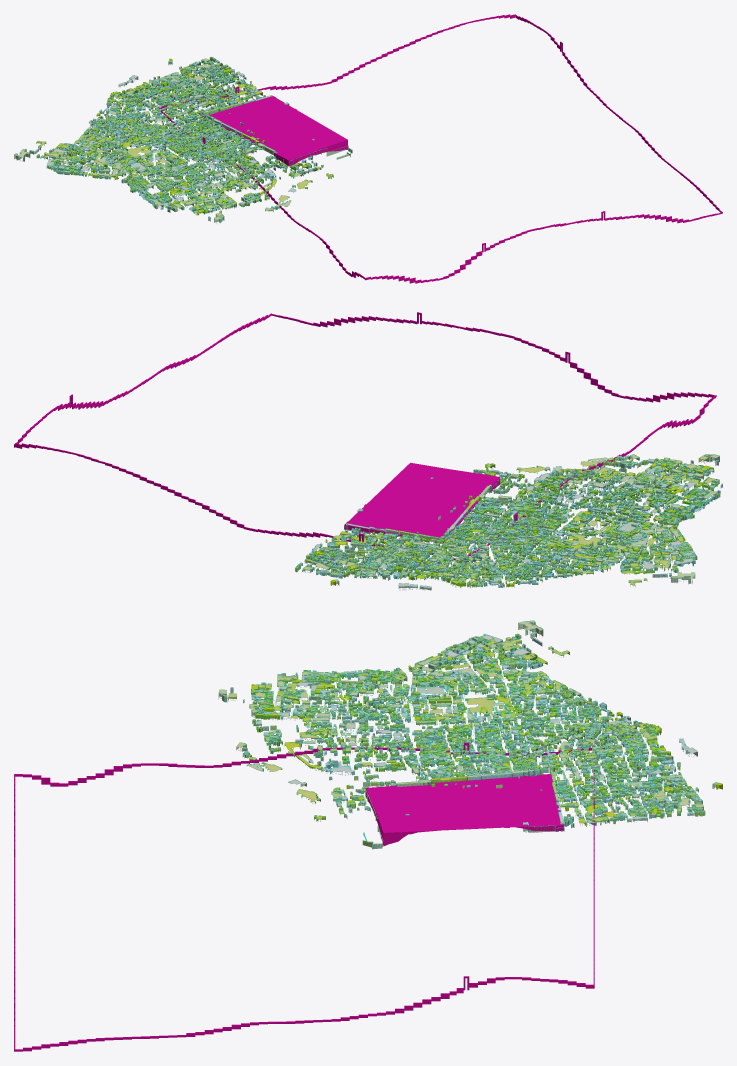
Rendered from city.glb.
3 views of the same model, one above another, from view 1: azimuth 30°, elevation 25°; view 2: azimuth 150°, elevation 25°; view 3: azimuth 270°, elevation 25° (orthographic). The views are drawn at different scales.
Parts seen in each view (by area): view 1: deck, precinctwall, skirt; view 2: deck, precinctwall, solid_-6_1, solid_-9_-2, solid_-5_-2, solid_-7_-3, solid_-6_-2, solid_-8_-2, solid_-3_0, solid_-4_-5, solid_-4_-1, solid_-1_-6 (+27 smaller); view 3: deck, precinctwall, solid_-7_0, solid_-2_-5, solid_-5_-2, solid_-6_-3, solid_-2_-4, solid_-6_3, solid_-6_-2, solid_-8_-2, solid_-4_0, solid_-4_-1 (+12 smaller).
Part boxes in pixels (x1,y1,x2,y2): deck: [205, 96, 347, 160]; precinctwall: [158, 14, 722, 283]; skirt: [225, 128, 347, 166]; deck: [345, 462, 499, 543]; precinctwall: [14, 312, 716, 560]; solid_-6_1: [584, 503, 630, 524]; solid_-9_-2: [620, 555, 670, 574]; solid_-5_-2: [503, 535, 548, 556]; solid_-7_-3: [541, 558, 593, 578]; solid_-6_-2: [532, 540, 589, 561]; solid_-8_-2: [593, 551, 639, 571]; solid_-3_0: [476, 500, 524, 522]; solid_-4_-5: [426, 562, 466, 584]; solid_-4_-1: [489, 519, 533, 536]; solid_-1_-6: [316, 559, 360, 578]; deck: [366, 774, 563, 832]; precinctwall: [14, 742, 594, 1051]; solid_-7_0: [417, 679, 468, 703]; solid_-2_-5: [614, 765, 662, 791]; solid_-5_-2: [502, 715, 545, 741]; solid_-6_-3: [542, 698, 584, 723]; solid_-2_-4: [580, 765, 624, 791]; solid_-6_3: [310, 692, 351, 718]; solid_-6_-2: [495, 695, 547, 720]; solid_-8_-2: [502, 658, 546, 682]; solid_-4_0: [427, 734, 467, 760]; solid_-4_-1: [465, 735, 506, 763].
Size of the model in its own units: 2194 by 214 by 1831.
